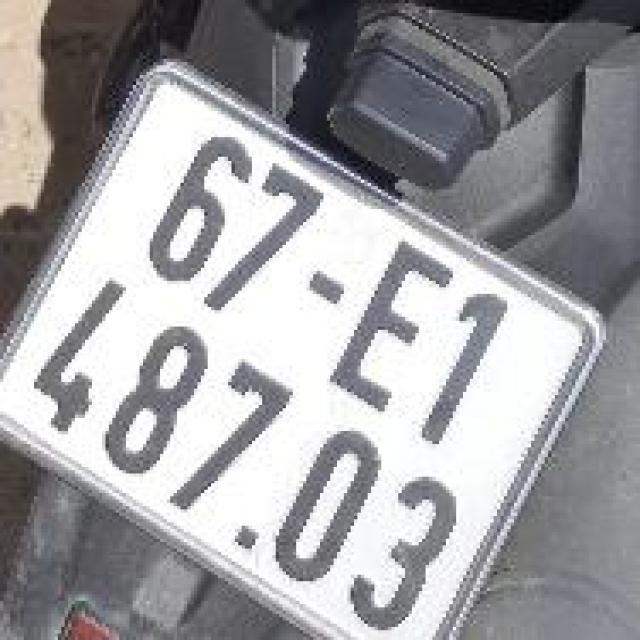0: (244, 410, 405, 604)
1: (405, 270, 534, 464)
3: (2, 2, 3, 3)
4: (10, 265, 157, 446)
6: (133, 118, 269, 299)
7: (150, 341, 314, 524), (188, 143, 346, 330)
8: (86, 308, 233, 492)
E: (322, 229, 466, 421)
